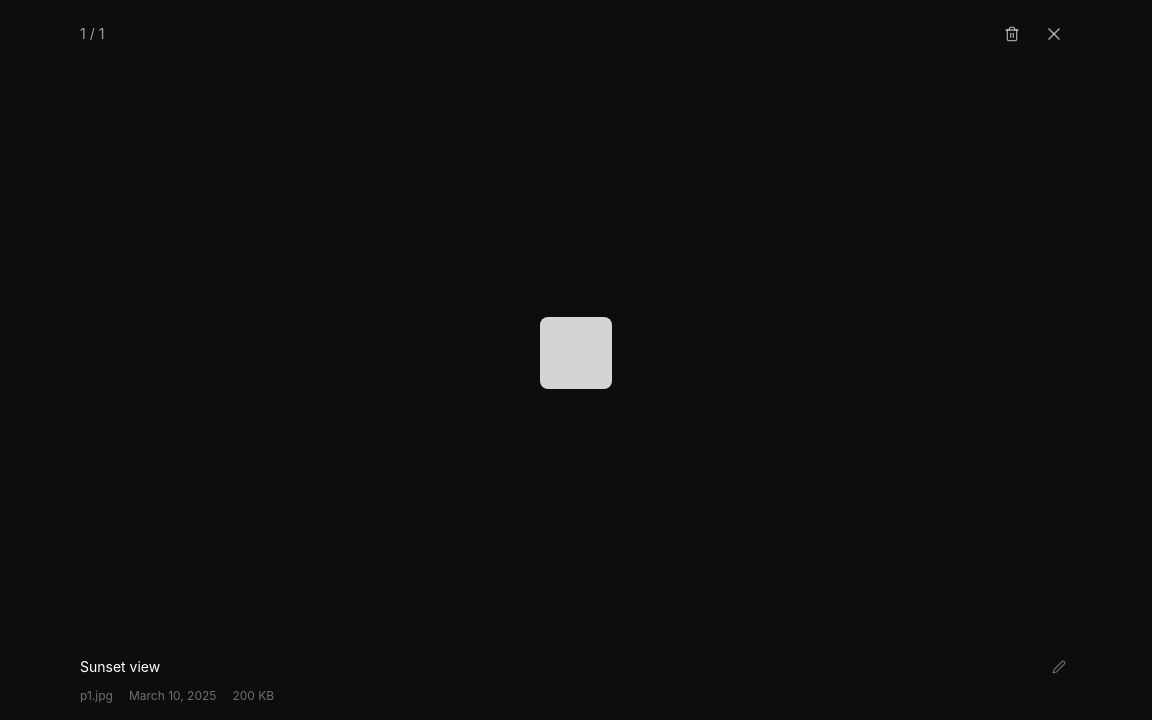
PhotoLightbox › FE-COMP-PHOTOLIGHTBOX-010: clicking caption text enters edit mode
This screenshot has width=1152, height=720.
Note: Click on the caption paragraph
Click the text "Sunset view" at (120, 666), box [80,658,160,675]
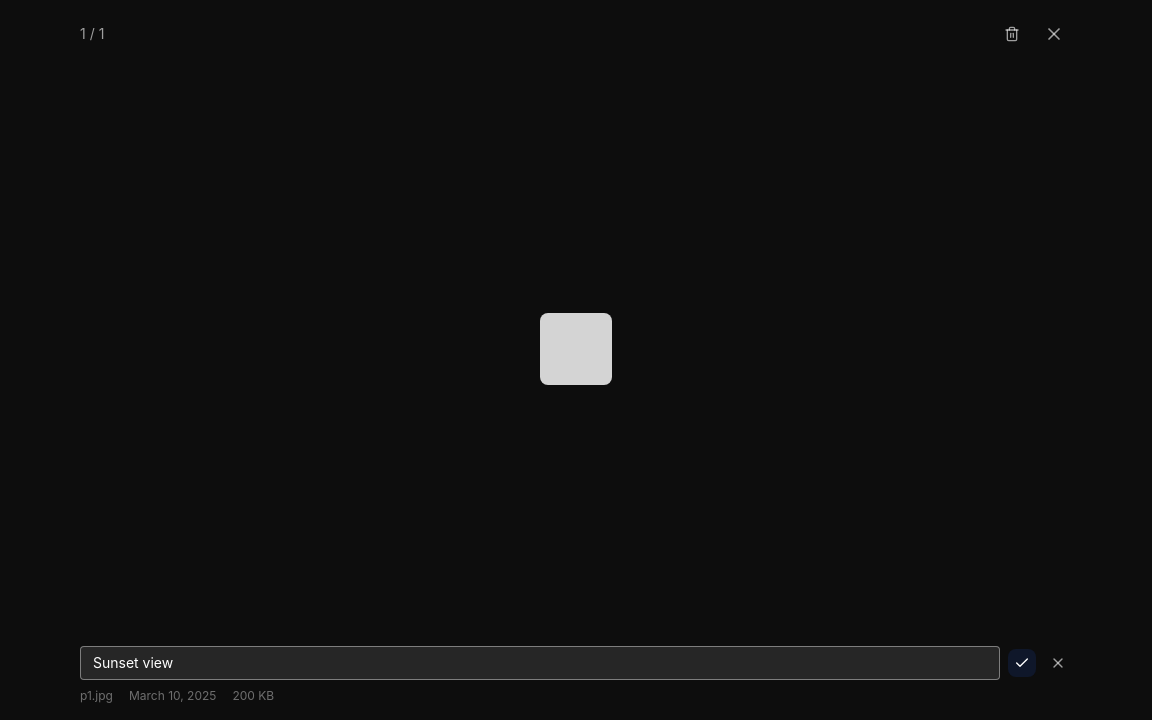
expect the field holds "Sunset view": met, box [80,646,1000,680]
